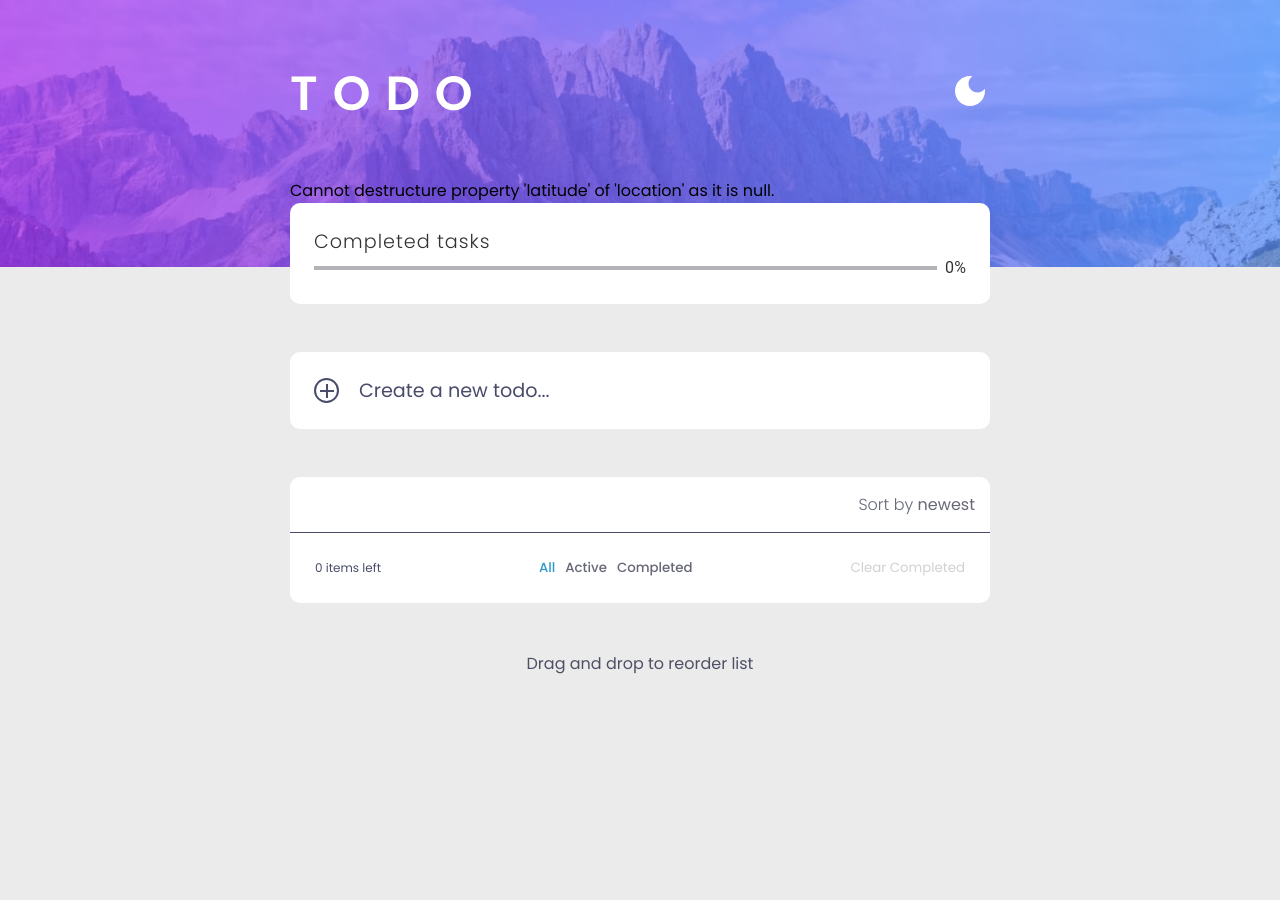
Scenario: ToDoList Component › open confirmation dialog when clearing completed tasks
The image size is (1280, 900).
What coordinates should you click on to do the following:
click the button with aria-label "clear-completed-button"
I would click on:
 (908, 568)
Its box is [850,558,965,578].
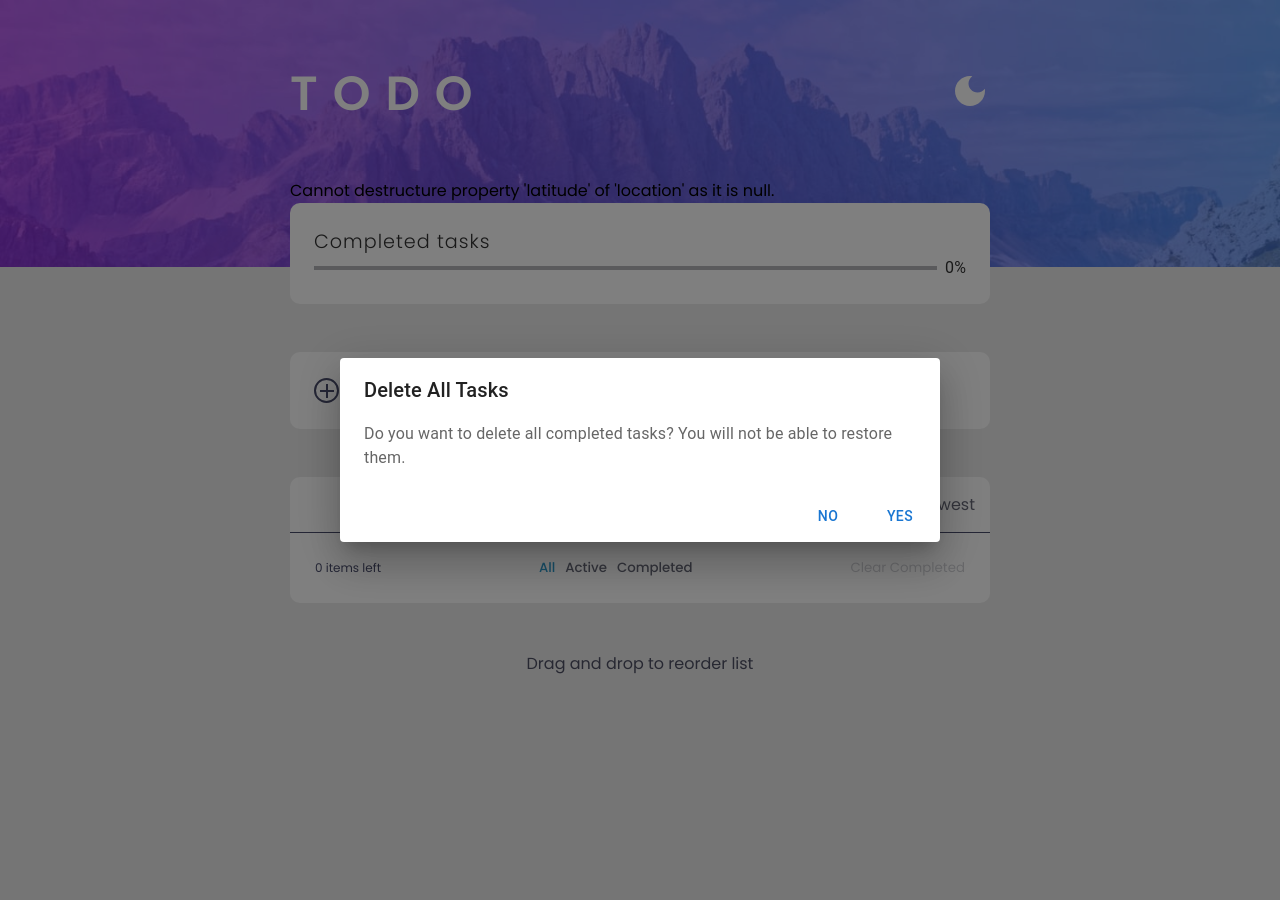
Check: the dialog is shown, box [340,358,940,542]
Check: the heading "Delete All Tasks" is shown, box [364,378,509,402]
Check: the text "Do you want to delete all completed tasks? You will not be able to restore them." is shown, box [364,422,916,470]
